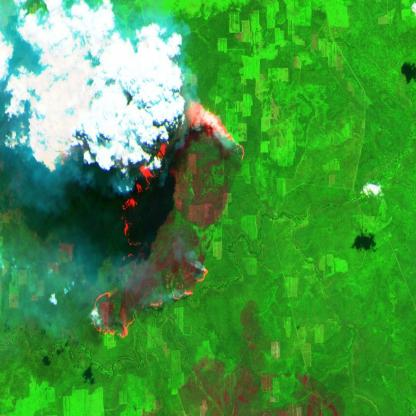fire: (91, 98, 246, 340)
